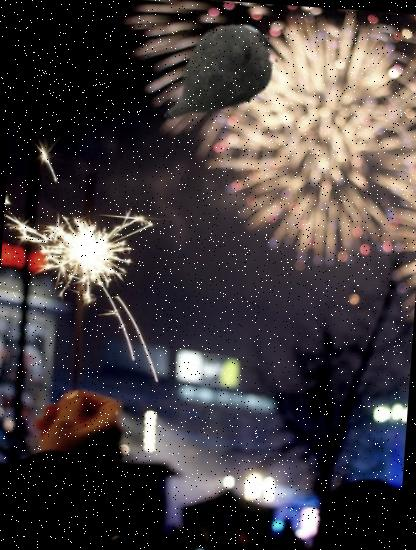Beetroot: (144, 5, 288, 150)
